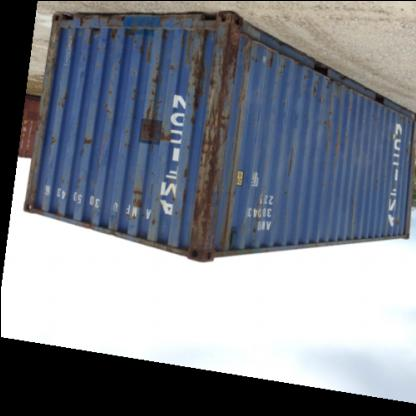Damage: (172, 18, 250, 252), (135, 64, 170, 142), (305, 76, 339, 144), (273, 148, 303, 202), (84, 18, 140, 44), (122, 184, 162, 220), (260, 38, 288, 76), (54, 30, 83, 66), (52, 173, 90, 199), (100, 83, 118, 125), (72, 138, 97, 166), (51, 90, 78, 113), (45, 136, 61, 150)
